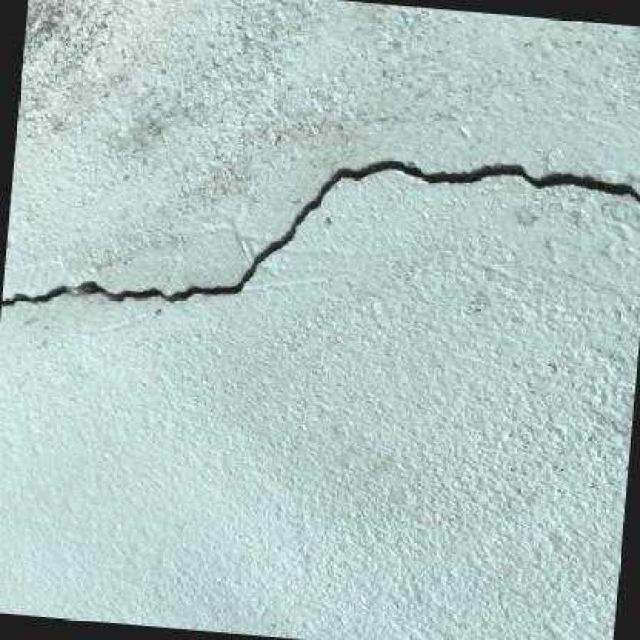D00: (0, 157, 640, 307)
